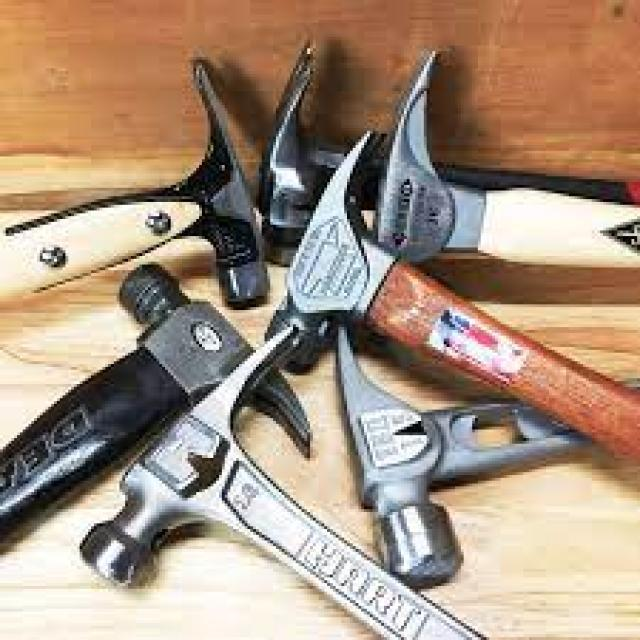hammer: (76, 318, 520, 640), (261, 129, 640, 462), (259, 40, 640, 302), (0, 259, 316, 560), (333, 317, 640, 582), (0, 51, 273, 324), (370, 35, 640, 284)
